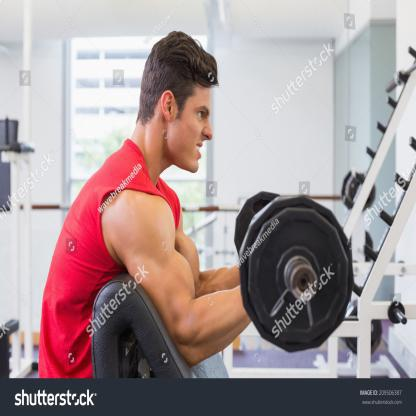Barbell: (233, 190, 361, 359)
